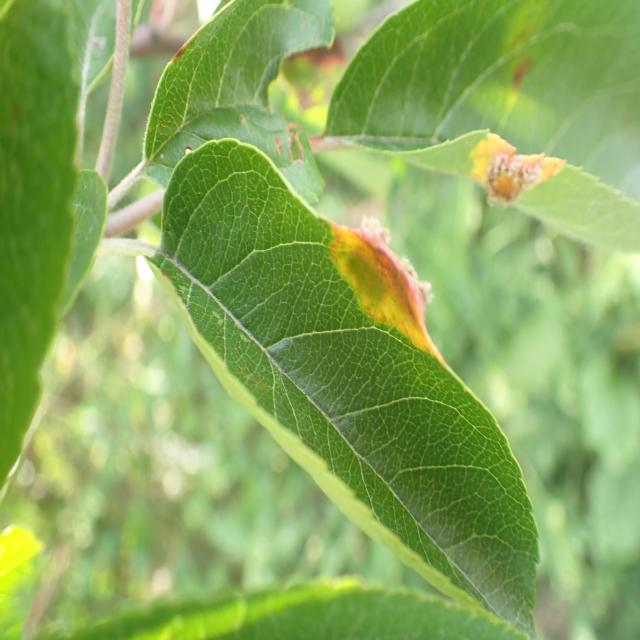Rust: (314, 191, 459, 387), (464, 83, 566, 232)
